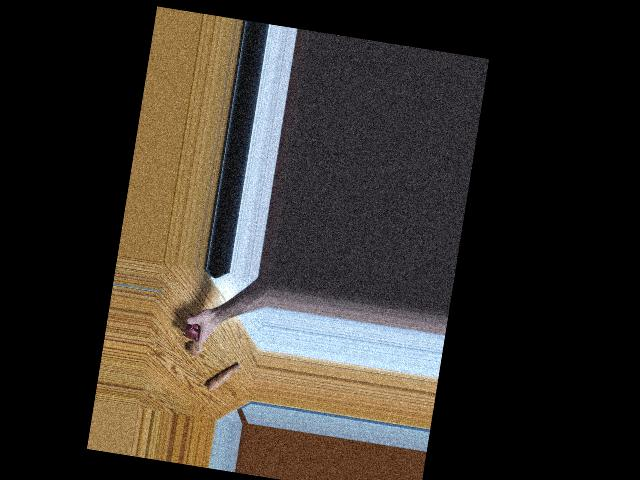onion: (186, 338, 203, 357)
